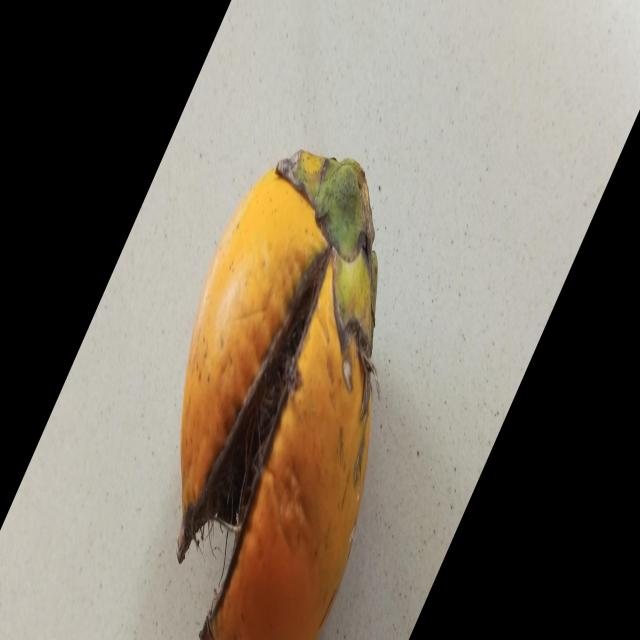damaged: (177, 151, 378, 640)
